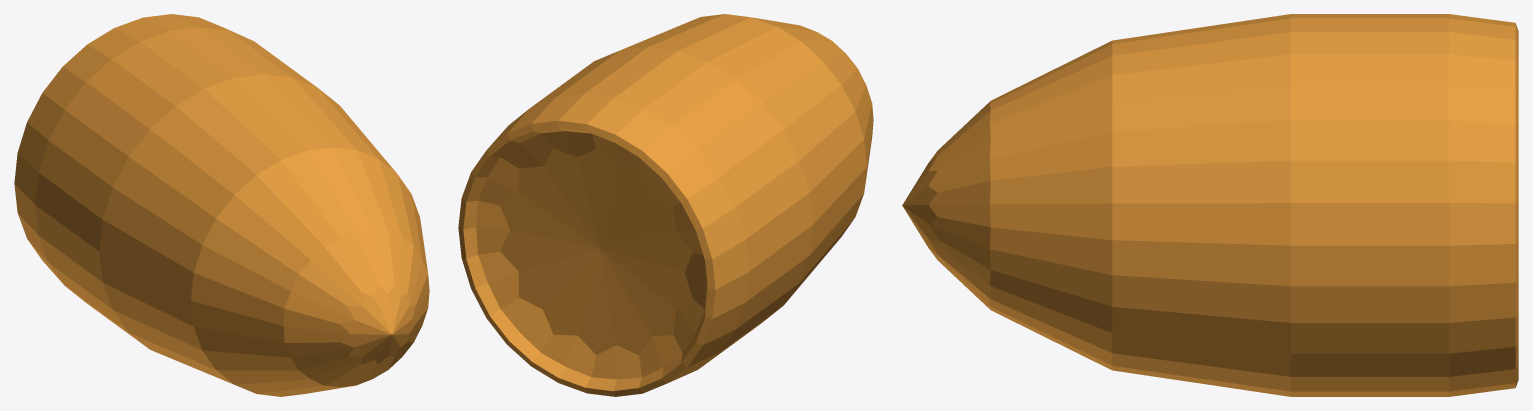
Rendered from bullet.fbx.
3 views of the same model, side by side, from view 1: azimuth 30°, elevation 25°; view 2: azimuth 150°, elevation 25°; view 3: azimuth 270°, elevation 25° (orthographic). The views are drawn at different scales.
Visible parts, largest first — view 1: Circle; view 2: Circle; view 3: Circle.
Part boxes in pixels (bbox=[...]): Circle: bbox=[14, 14, 429, 396]; Circle: bbox=[458, 14, 873, 396]; Circle: bbox=[902, 14, 1518, 396].
Size of the model in its own units: 189 by 189 by 304.
